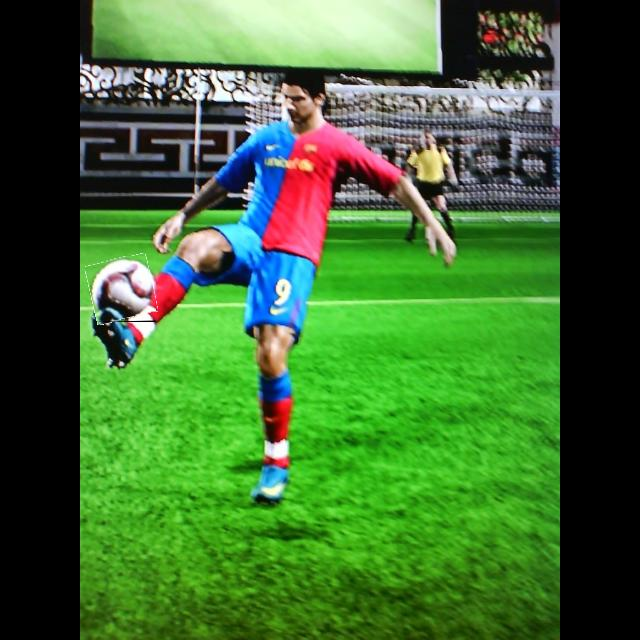Football: (88, 256, 156, 322)
